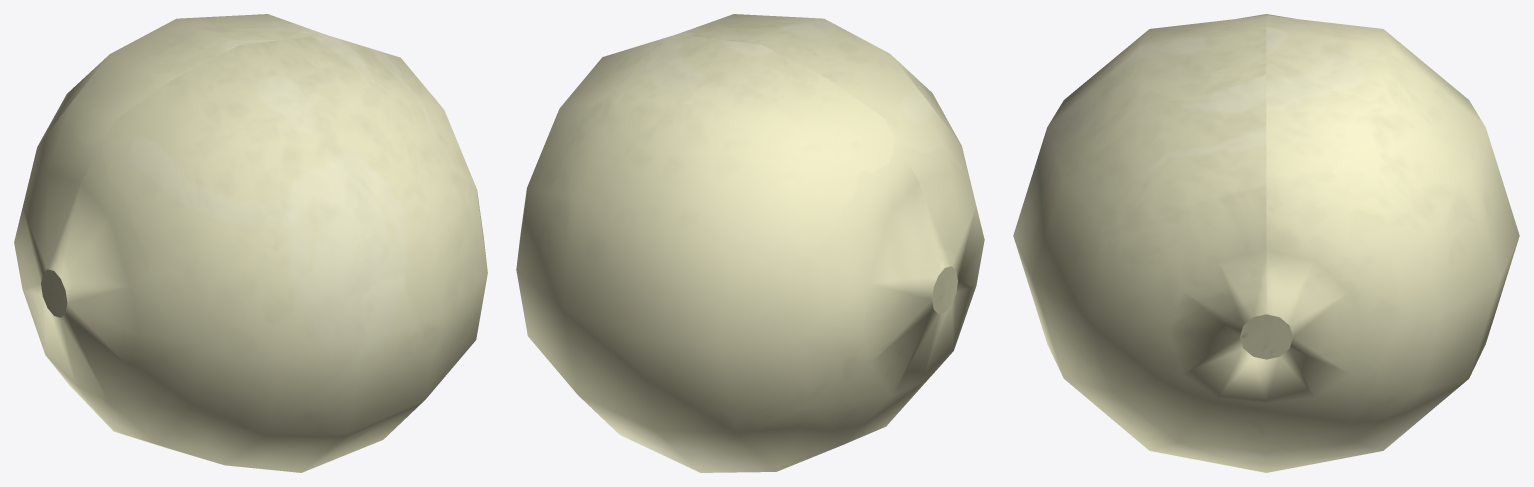
File: Model_SansyokuDango_03.fbx
The picture shows the model from 3 angles, left to right: view 1: azimuth 30°, elevation 25°; view 2: azimuth 150°, elevation 25°; view 3: azimuth 270°, elevation 25°; orthographic projection. The views are drawn at different scales.
Parts seen in each view (by area): view 1: polySurface5; view 2: polySurface5; view 3: polySurface5.
Boxes of the visible parts, <box> form: polySurface5: <box>14,14,487,472</box>; polySurface5: <box>516,14,984,472</box>; polySurface5: <box>1013,14,1519,472</box>.
Size of the model in its own units: 180 by 178 by 200.
